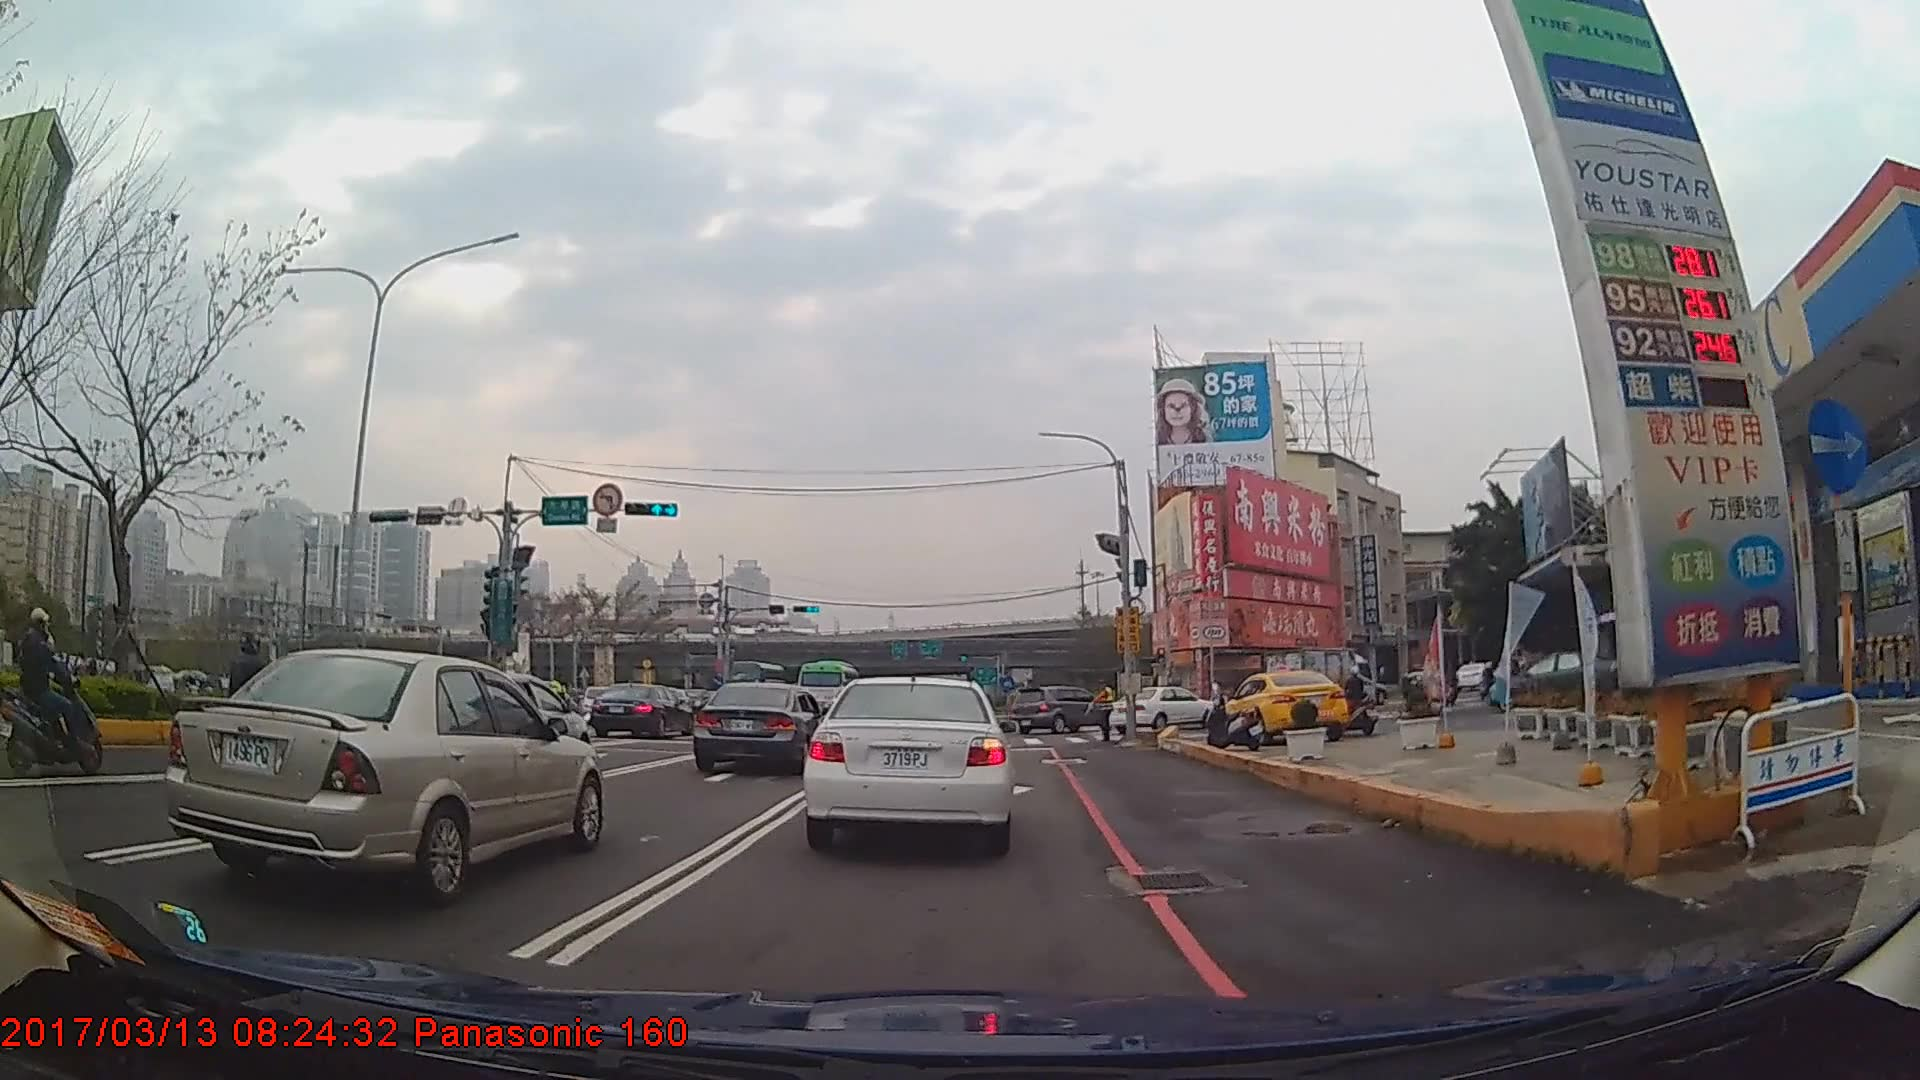pedestrian: (1086, 681, 1113, 743)
rider: (10, 609, 99, 779), (1336, 666, 1377, 737), (1419, 658, 1446, 721)
vehicle: (166, 645, 605, 903), (804, 666, 1014, 852), (688, 679, 827, 773), (1218, 667, 1349, 743), (1257, 645, 1374, 714), (587, 680, 688, 734), (1104, 681, 1215, 729), (1010, 683, 1113, 731), (793, 658, 860, 715)
